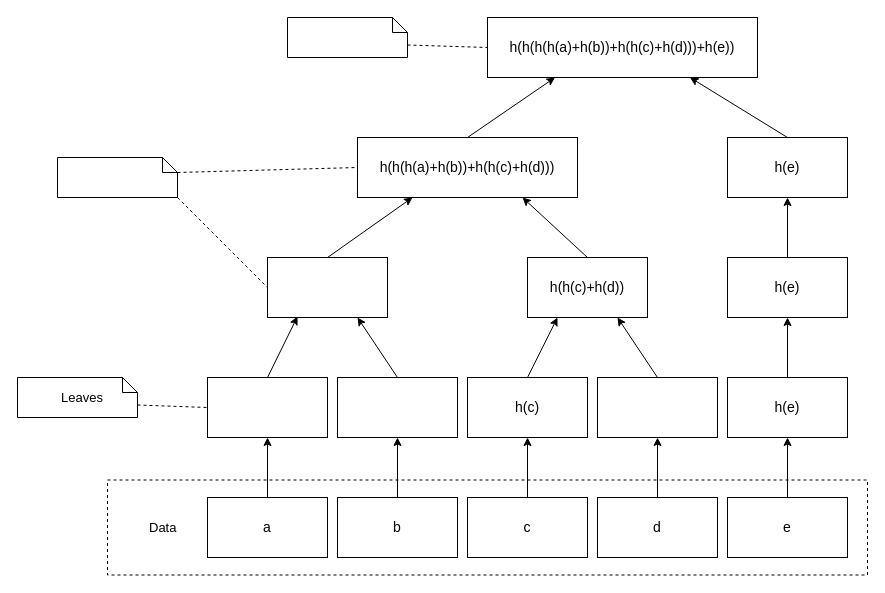
Some shapes in this 885 by 593 pixel diagram are drawn without their labels. Here are the shapes that lost their labels. From the top down, the centre of each, then its label:
At point 347,37: "Root".
At point 117,177: "Branches".
At point 327,287: "h(h(a)+h(b))".
At point 267,407: "h(a)".
At point 397,407: "h(b)".
At point 657,407: "h(d)".
